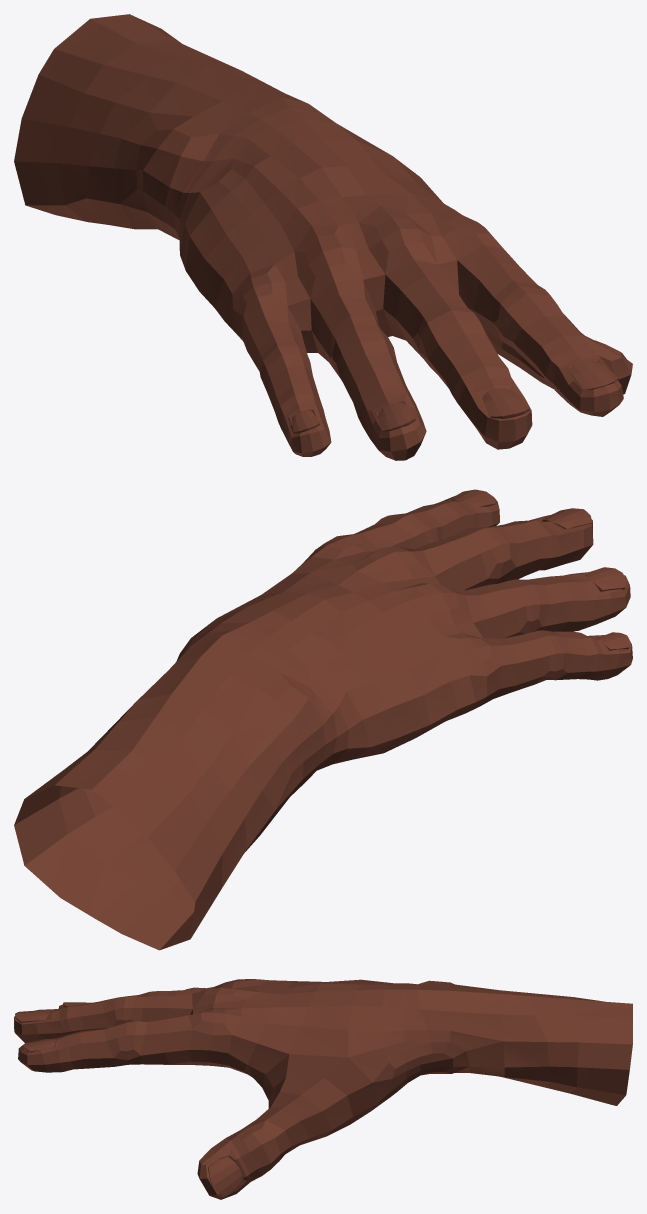
The model's file is 4_5_HandPolygonalRightBack.obj.
The picture shows the model from 3 angles, top to bottom: view 1: azimuth 30°, elevation 25°; view 2: azimuth 150°, elevation 25°; view 3: azimuth 270°, elevation 25°; orthographic projection. The views are drawn at different scales.
Visible parts, largest first — view 1: hand1_polySurface891.005; view 2: hand1_polySurface891.005; view 3: hand1_polySurface891.005.
Boxes of the visible parts, x1=… form: hand1_polySurface891.005: x1=14, y1=14, x2=632, y2=460; hand1_polySurface891.005: x1=14, y1=489, x2=632, y2=950; hand1_polySurface891.005: x1=14, y1=979, x2=632, y2=1199.
Size of the model in its own units: 0.0875 by 0.0487 by 0.1779.
